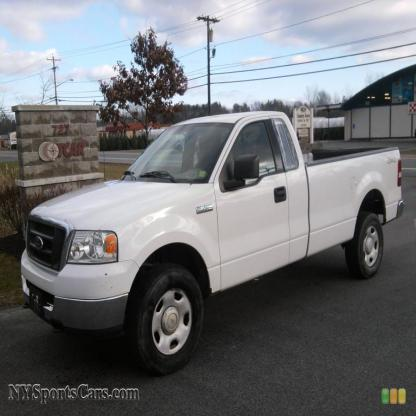Vehicle: (20, 110, 403, 375)
